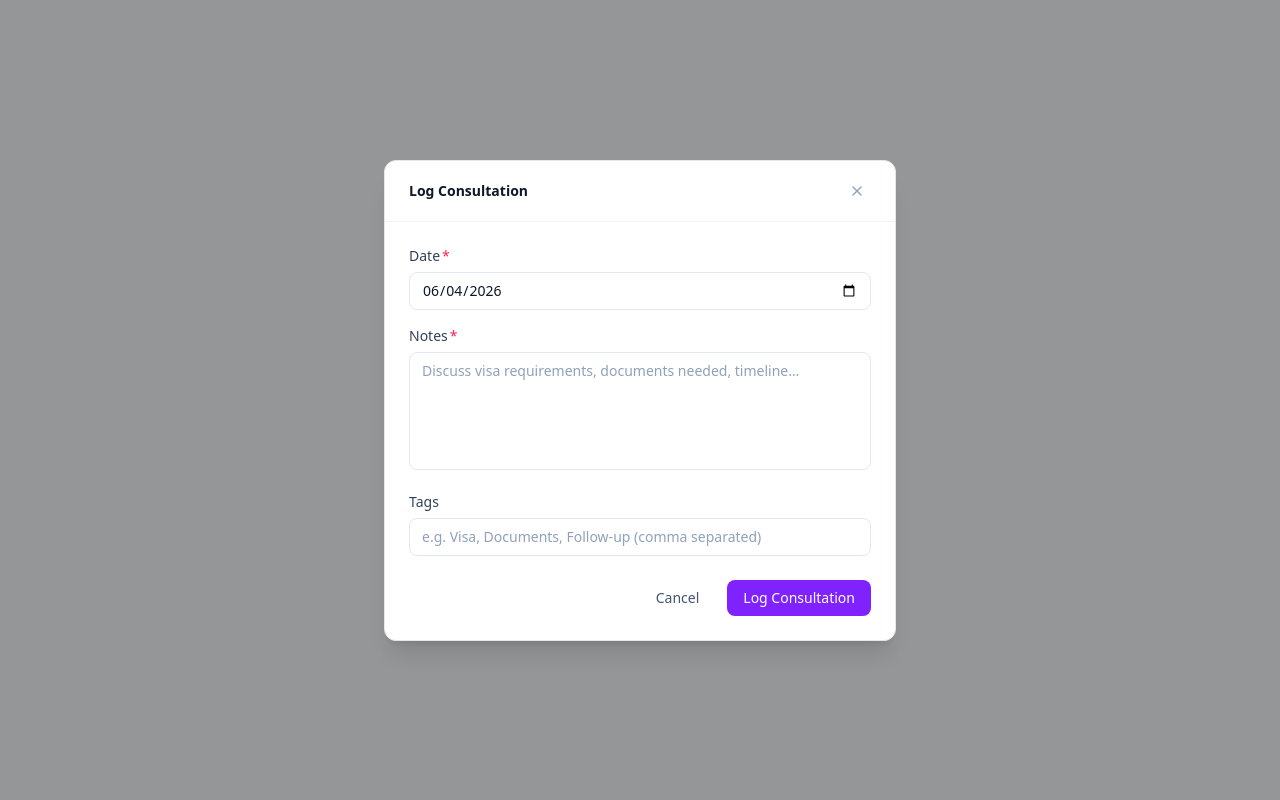
AddConsultationModal › shows a validation error when Notes is empty on submit
Click the button "Log Consultation". click: point(799, 598)
box: [727,580,871,616]
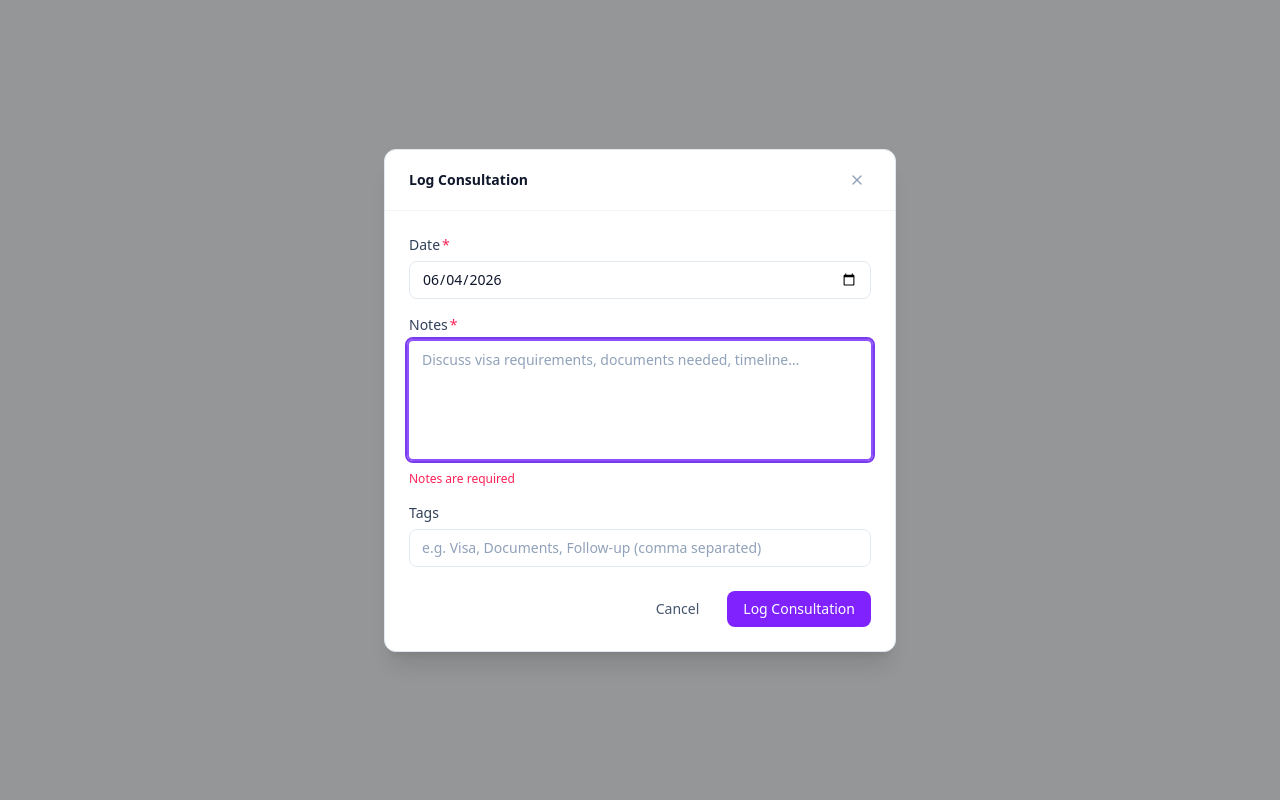
expect the text "Notes are required" is shown: met, box [409,470,515,486]
